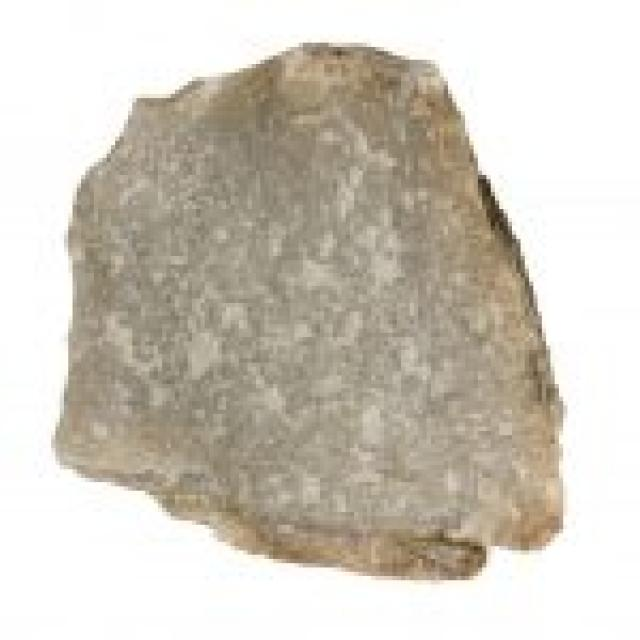Metamorphic: (68, 17, 572, 614)
